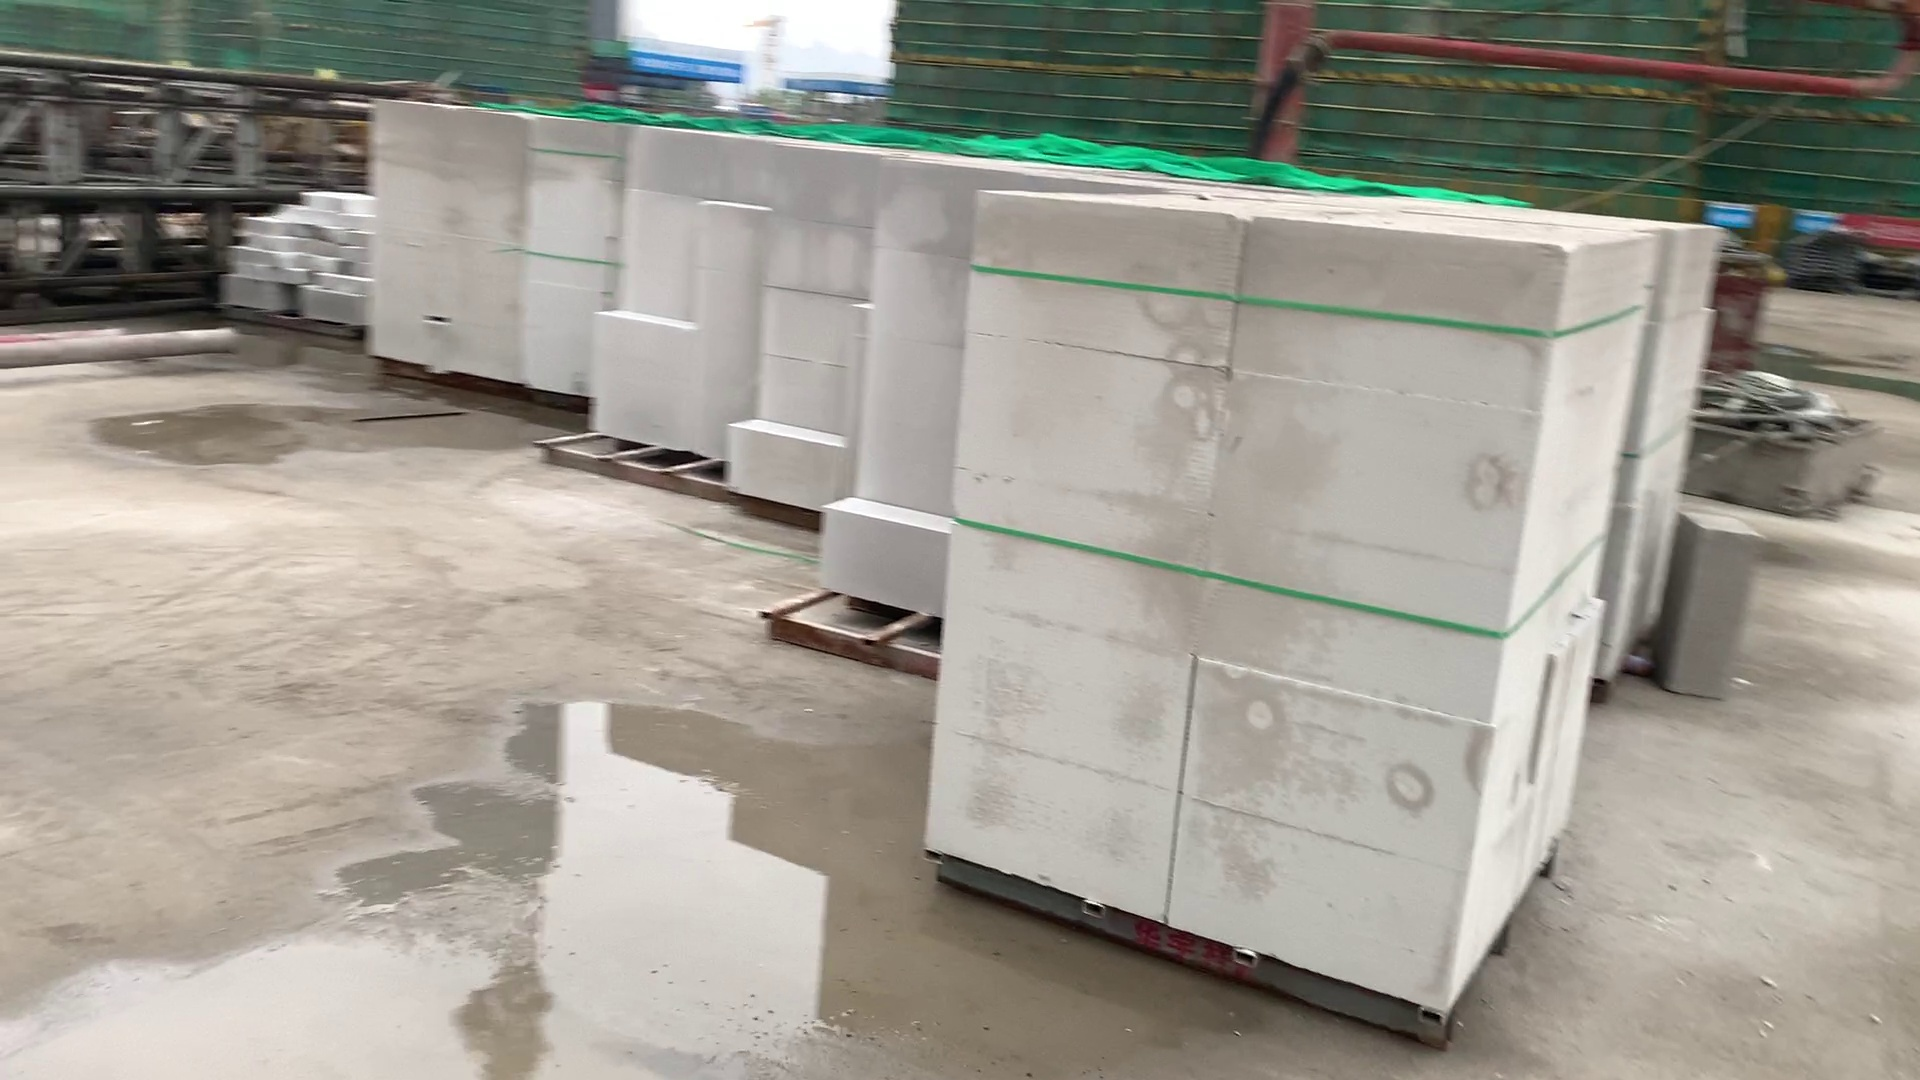brickwork: (942, 199, 1509, 1000), (820, 167, 968, 591), (356, 102, 524, 382), (615, 133, 750, 456), (738, 146, 847, 502), (524, 113, 612, 404)
